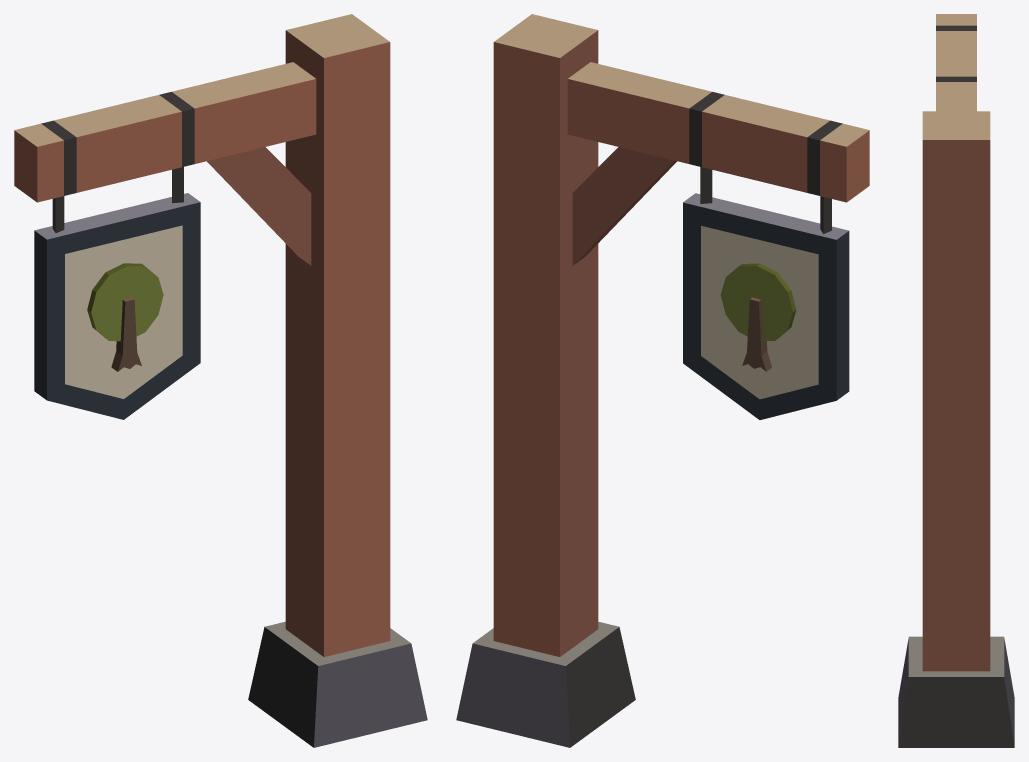
Rendered from TB_Prop_Sign_Lumber.FBX.
The picture shows the model from 3 angles, left to right: view 1: azimuth 30°, elevation 25°; view 2: azimuth 150°, elevation 25°; view 3: azimuth 270°, elevation 25°; orthographic projection. The views are drawn at different scales.
Visible parts, largest first — view 1: TB_Prop_Sign_Lumber; view 2: TB_Prop_Sign_Lumber; view 3: TB_Prop_Sign_Lumber.
Boxes of the visible parts, x1,y1,x2,y2 form: TB_Prop_Sign_Lumber: [14, 14, 427, 747]; TB_Prop_Sign_Lumber: [456, 14, 869, 747]; TB_Prop_Sign_Lumber: [898, 14, 1014, 747].
Bounding box in the file's own units: 1.68 × 2.93 × 0.5186.
